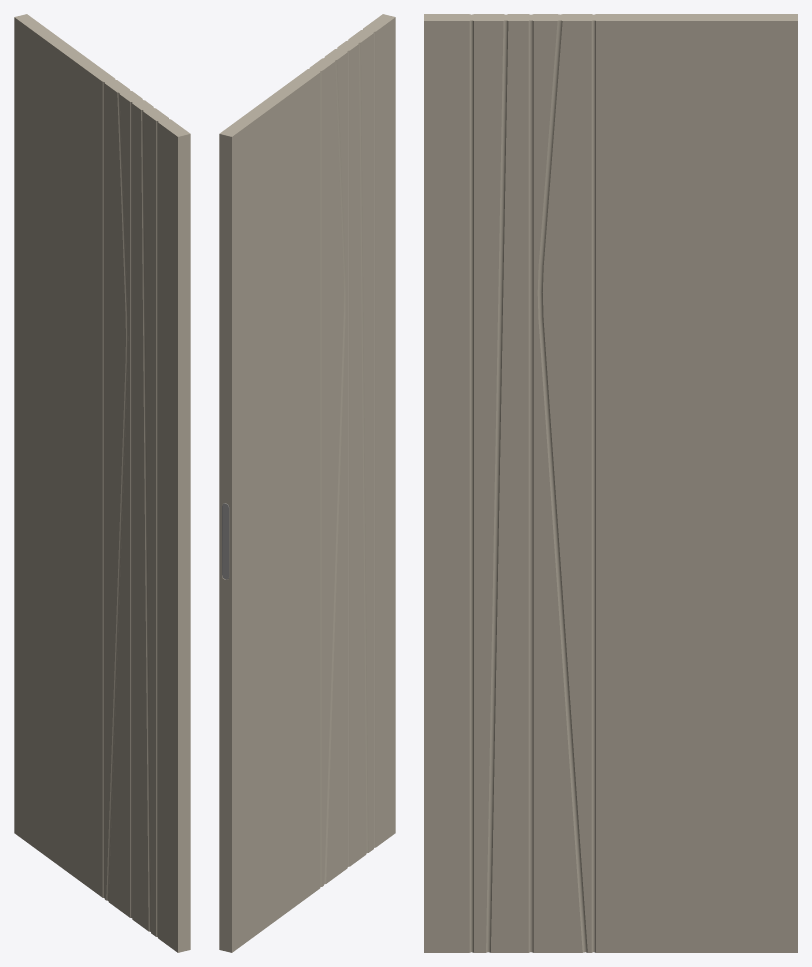
Rendered from 70_ORLEAN_Door.glb.
The picture shows the model from 3 angles, left to right: view 1: azimuth 30°, elevation 25°; view 2: azimuth 150°, elevation 25°; view 3: azimuth 270°, elevation 25°; orthographic projection. The views are drawn at different scales.
Visible parts, largest first — view 1: 70_ORLEAN_Door; view 2: 70_ORLEAN_Door; view 3: 70_ORLEAN_Door.
Part boxes in pixels (x1,y1,x2,y2): 70_ORLEAN_Door: [14, 14, 190, 952]; 70_ORLEAN_Door: [219, 14, 395, 952]; 70_ORLEAN_Door: [424, 14, 797, 952].
Size of the model in its own units: 0.036 by 2.2 by 0.8004.
